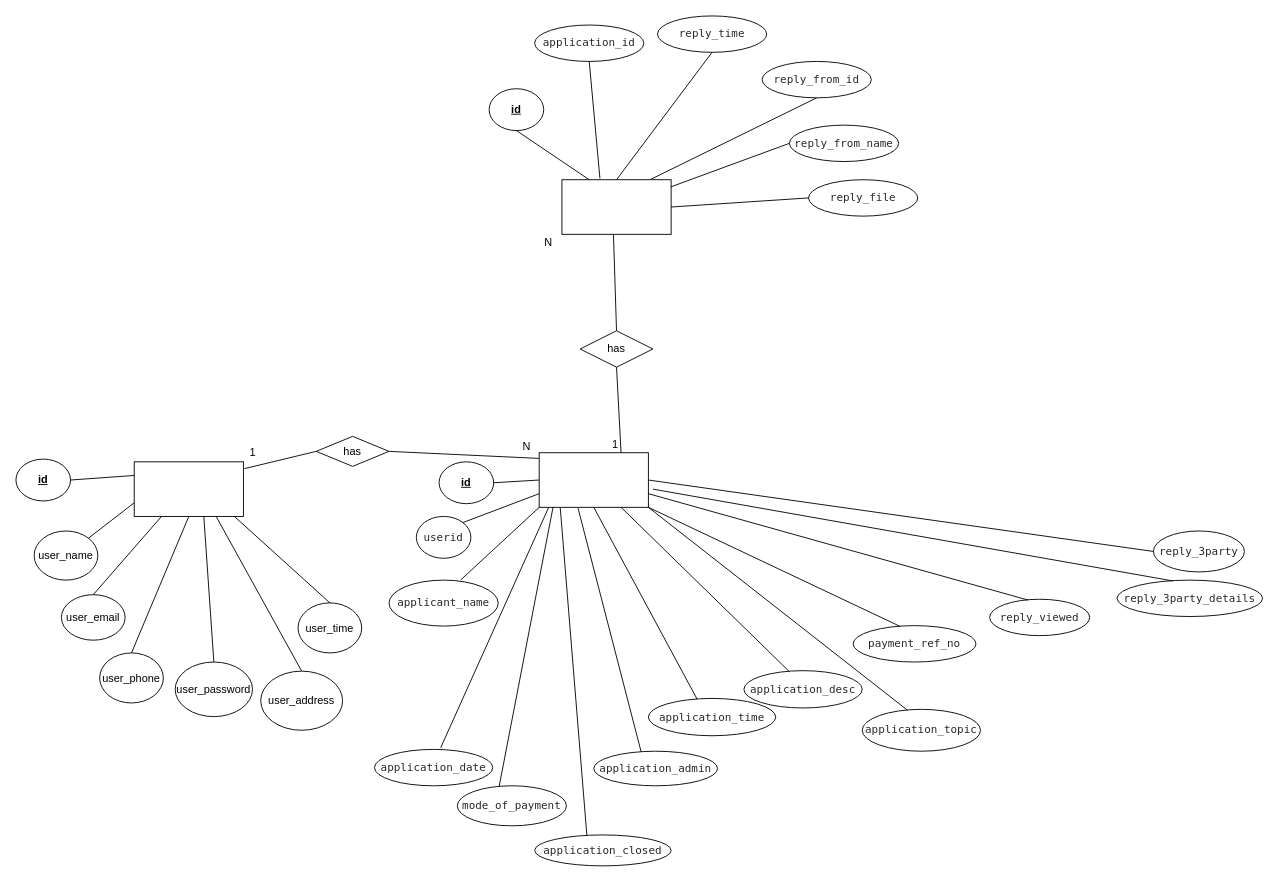
The diagram is 1279 pixels wide and 882 high, and some of its shapes have lost their labels. The shapes that lost their labels are listed below. From the top down, each one's centre as x and y in pixels, then its label:
[616,206]: Replies
[188,488]: Users
[593,479]: Applications
